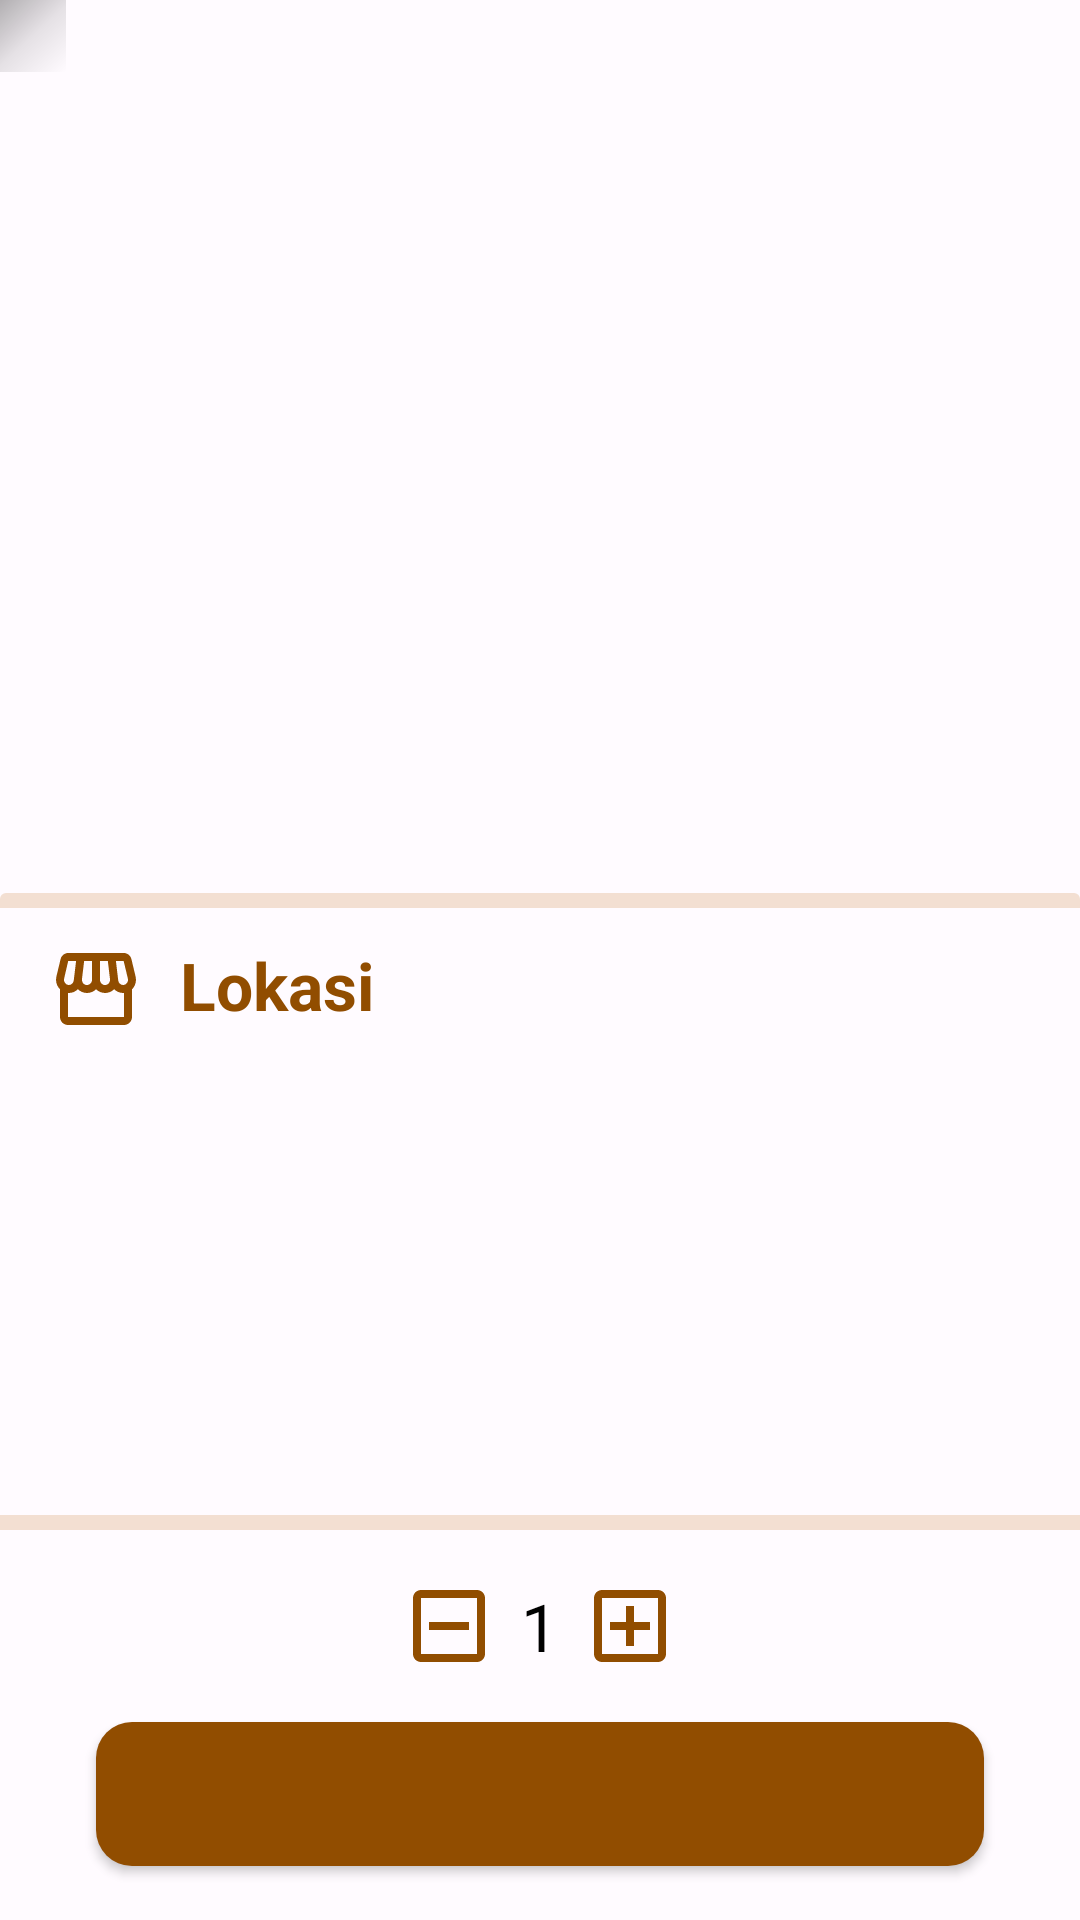

Where icons sit on this 1080w x 1920h app screen, as box=[x1, y1, x2, y2]:
add box: box=[594, 1590, 666, 1662]
remove box: box=[413, 1590, 485, 1662]
storefront: box=[56, 953, 136, 1025]
